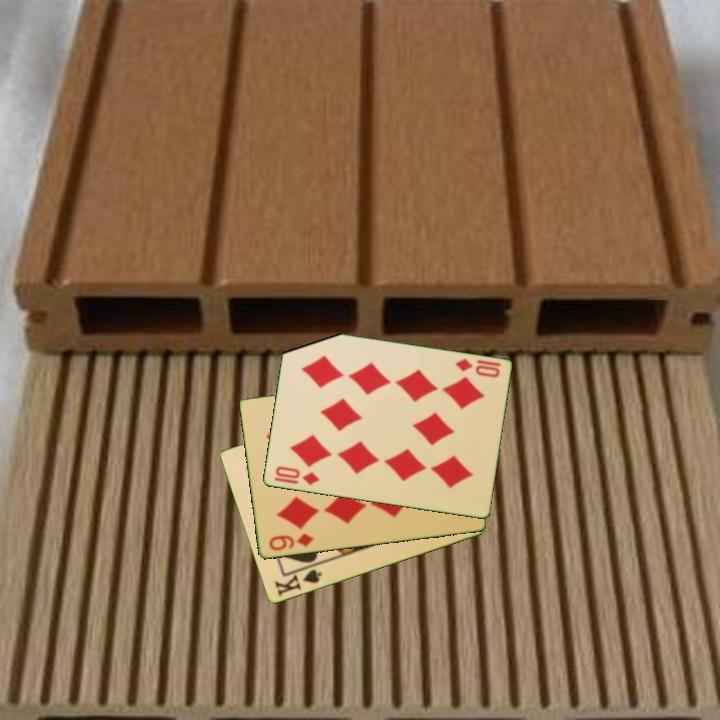10d: (452, 355, 503, 381), (270, 463, 322, 488)
9d: (265, 530, 317, 554)
Ks: (271, 561, 324, 600)
